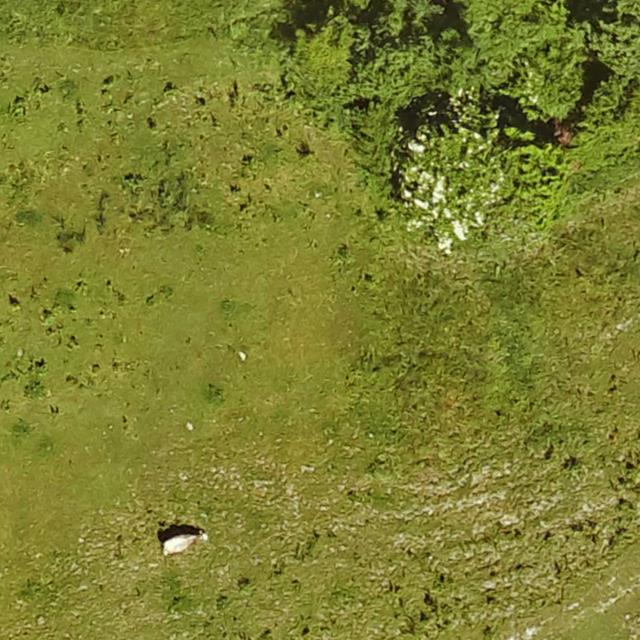tree: (403, 111, 565, 241), (453, 0, 582, 117), (286, 19, 351, 90), (589, 0, 640, 69)
